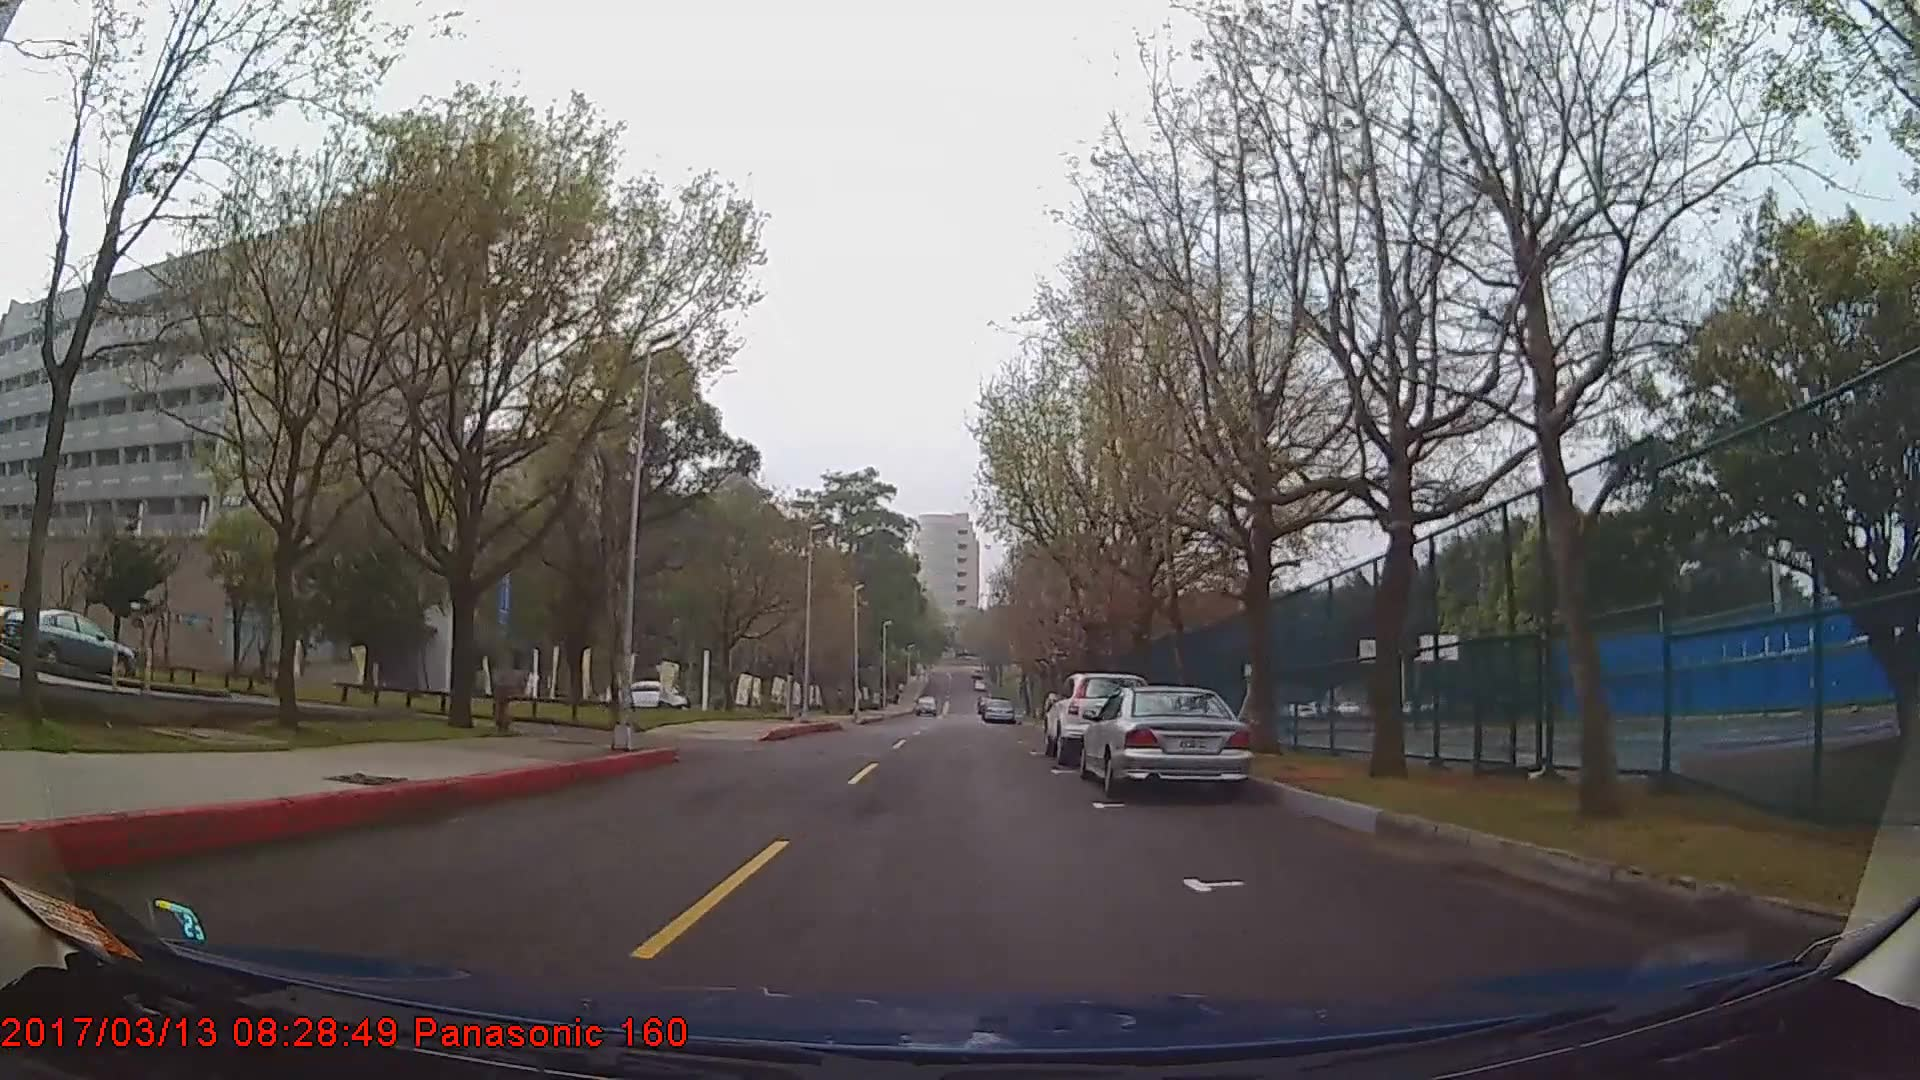vehicle: (1084, 684, 1259, 804), (0, 607, 135, 680), (1043, 670, 1145, 765), (603, 676, 687, 708), (981, 695, 1013, 723)
